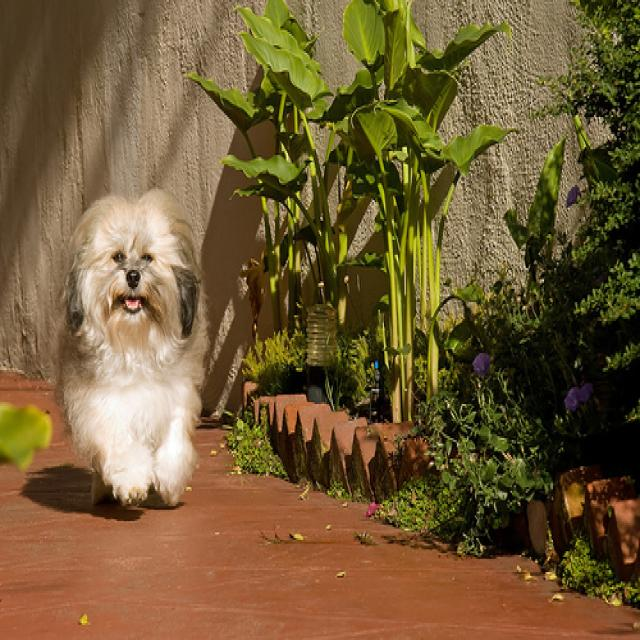dog-havanese: (51, 170, 212, 521)
